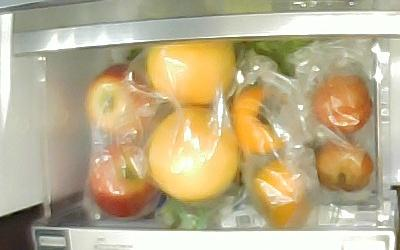apple_vinyl: (83, 64, 163, 144), (89, 144, 155, 217)
grapefruit_vinyl: (147, 107, 239, 199), (146, 40, 237, 105)
persimmon_vinyl: (255, 158, 311, 230), (231, 85, 286, 154)
prune_vinyl: (312, 74, 373, 133), (316, 140, 372, 193)
